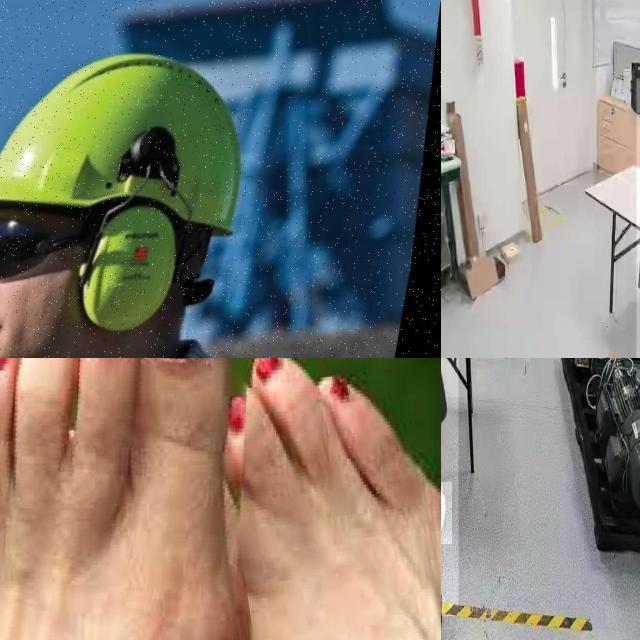Barefoots: (166, 358, 441, 640), (0, 358, 264, 640)
Ear-protection: (74, 196, 188, 340)
glasses: (0, 227, 95, 266)
hand_glove: (441, 482, 452, 545)
head_helmet: (0, 41, 270, 217)
